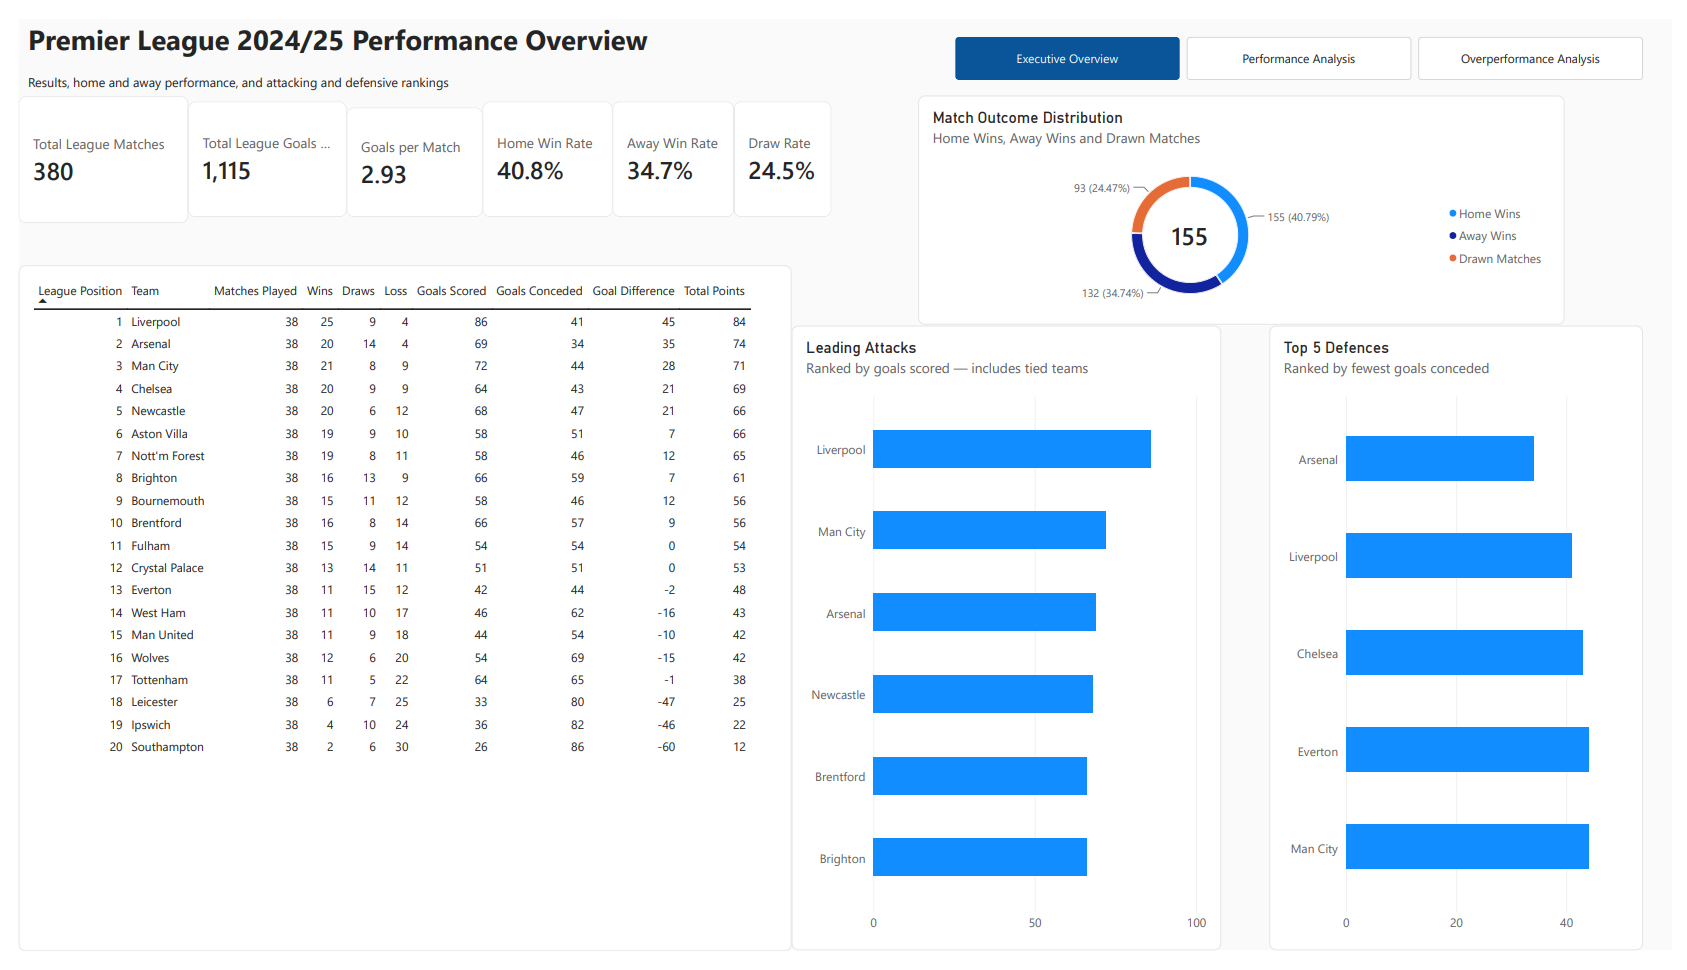

The page's visual inventory and layout, read from the dashboard file:
{"tool":"powerbi","page":{"name":"Executive Overview","canvas":[1920,1080],"ordinal":0},"visuals":[{"type":"textbox","box":[10.8,0,1105.9,88.7],"z":0},{"type":"tableEx","fields":{"Values":["Team_Match_Data.League Position","Team_Match_Data.Team","Team_Match_Data.Matches Played","Team_Match_Data.Wins","Team_Match_Data.Draws","Team_Match_Data.Loss","Team_Match_Data.Goals Scored","Team_Match_Data.Goals Conceded","Team_Match_Data.Goal Difference","Team_Match_Data.Total Points"]},"box":[0,285,898.1,796.4],"z":1000},{"type":"cardVisual","title":"Matches","fields":{"Data":["Team_Match_Data.Total League Matches"]},"box":[0,88.7,196.9,147.2],"z":2000},{"type":"cardVisual","title":"Goals","fields":{"Data":["Team_Match_Data.Total League Goals Display"]},"box":[196.9,95.2,184,134.2],"z":3000},{"type":"cardVisual","title":"Goals per Match","fields":{"Data":["Team_Match_Data.Goals per Match"]},"box":[380.9,101.7,158,127.7],"z":4000},{"type":"cardVisual","title":"Home Win Rate","fields":{"Data":["Team_Match_Data.Home Win Rate"]},"box":[538.9,95.2,151.5,134.2],"z":5000},{"type":"cardVisual","title":"Away Win Rate","fields":{"Data":["Team_Match_Data.Away Win Rate"]},"box":[690.4,95.2,140.7,134.2],"z":6000},{"type":"cardVisual","title":"Draw Rate","fields":{"Data":["Team_Match_Data.Draw Rate"]},"box":[831,95.2,112.5,134.2],"z":7000},{"type":"donutChart","title":"Match Outcome Distribution","fields":{"Y":["Team_Match_Data.Home Wins","Team_Match_Data.Away Wins","Team_Match_Data.Drawn Matches"]},"box":[1045,87.5,751,266.2],"z":8000},{"type":"clusteredBarChart","title":"Leading Attacks","fields":{"Category":["Team_Match_Data.Team"],"Y":["Team_Match_Data.Goals Scored"]},"box":[897.5,355,499.9,725],"z":9000},{"type":"clusteredBarChart","title":"Top 5 Defences","fields":{"Category":["Team_Match_Data.Team"],"Y":["Team_Match_Data.Goals Conceded"]},"box":[1452.5,355,435,725],"z":10000},{"type":"pageNavigator","box":[1087.5,20,800,50],"z":11000}]}

Visuals, with their boxes in screenshot pixels (x1, y1, x2, y2), scaled from the page's 1920x1080 canvas onto the 1687x970 screenshot:
textbox: <region>9, 0, 981, 80</region>
tableEx - Team_Match_Data.League Position x Team_Match_Data.Team: <region>0, 256, 789, 969</region>
"Matches" cardVisual: <region>0, 80, 173, 212</region>
"Goals" cardVisual: <region>173, 86, 335, 206</region>
"Goals per Match" cardVisual: <region>335, 91, 474, 206</region>
"Home Win Rate" cardVisual: <region>474, 86, 607, 206</region>
"Away Win Rate" cardVisual: <region>607, 86, 730, 206</region>
"Draw Rate" cardVisual: <region>730, 86, 829, 206</region>
"Match Outcome Distribution" donutChart: <region>918, 79, 1578, 318</region>
"Leading Attacks" clusteredBarChart: <region>789, 319, 1228, 969</region>
"Top 5 Defences" clusteredBarChart: <region>1276, 319, 1658, 969</region>
pageNavigator: <region>956, 18, 1658, 63</region>
